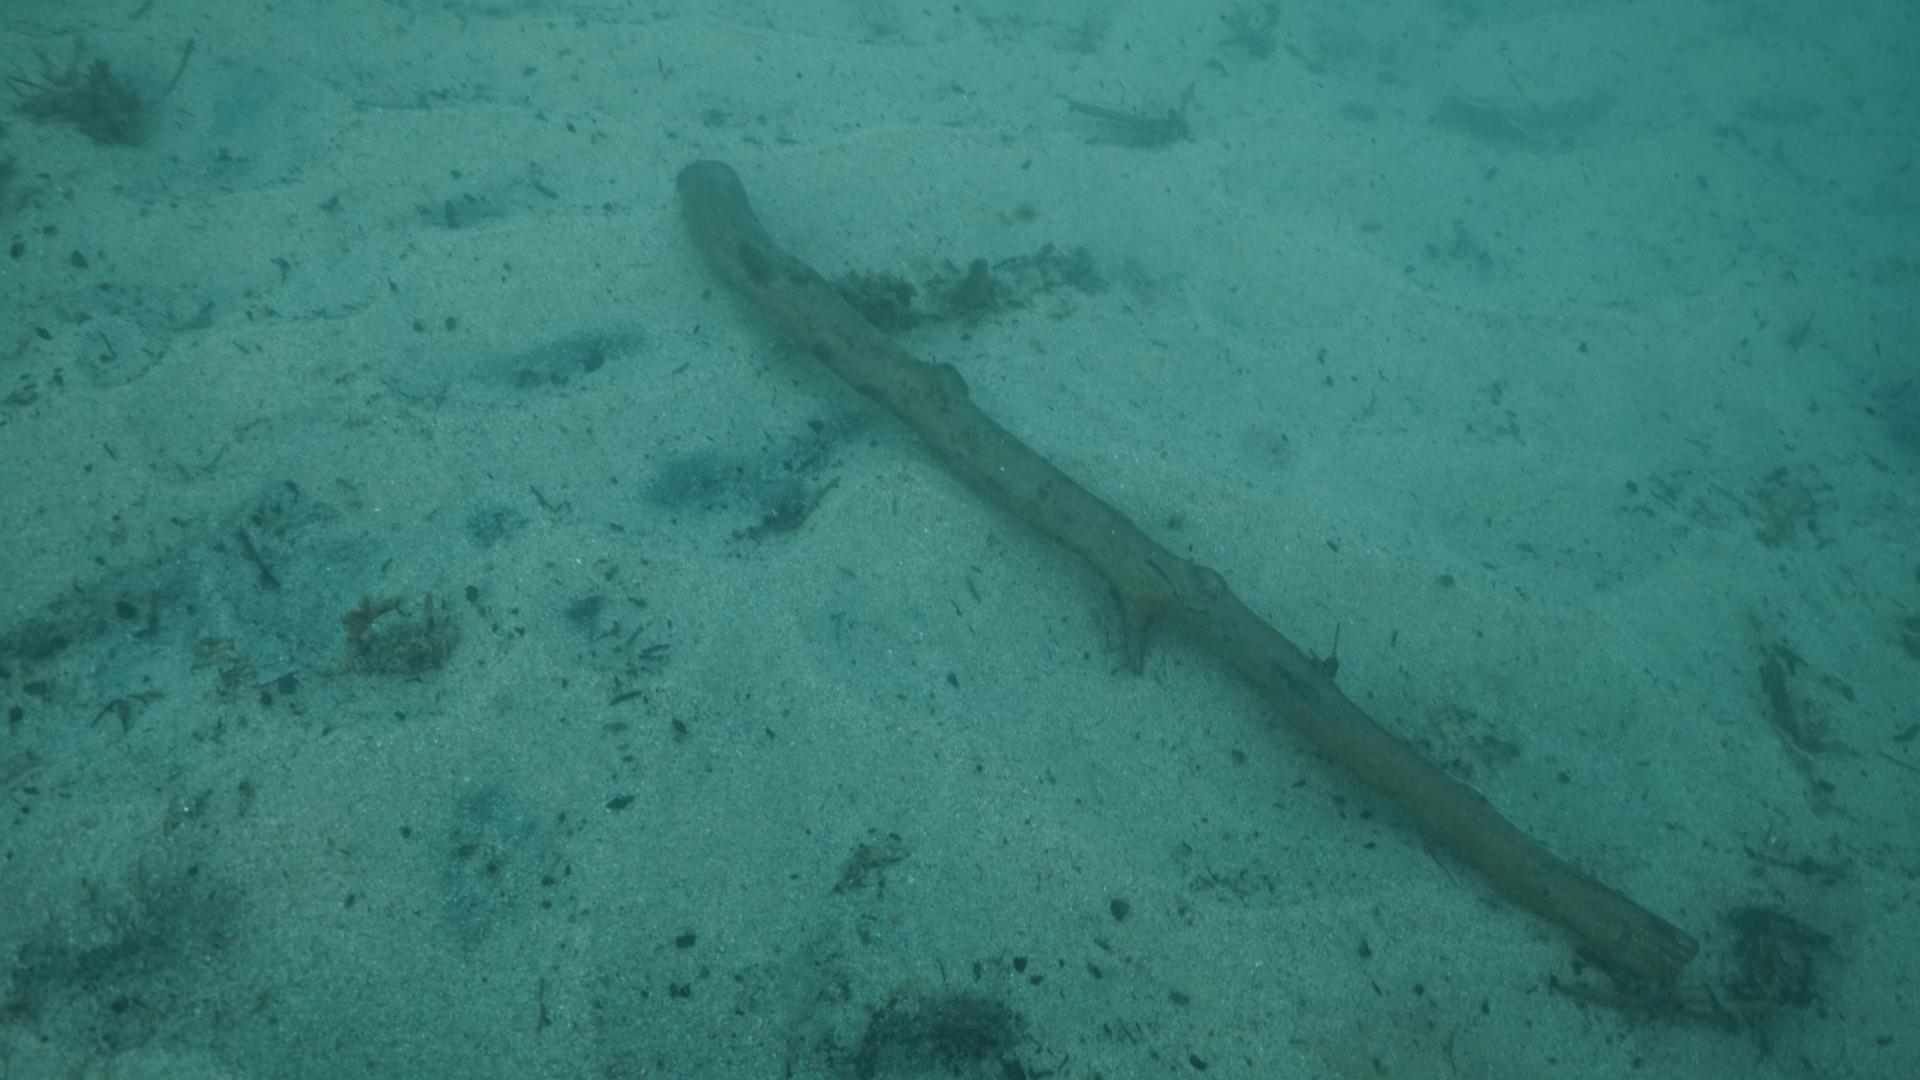wood: (673, 160, 1695, 986)
